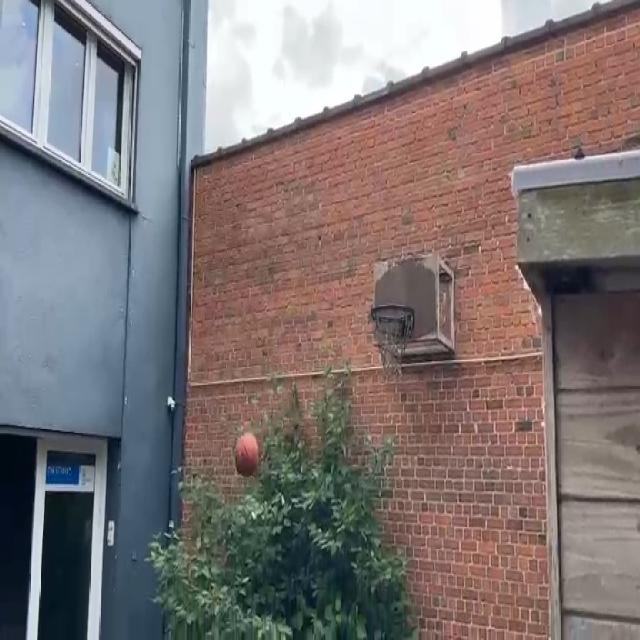Basketball: (235, 434, 259, 477)
